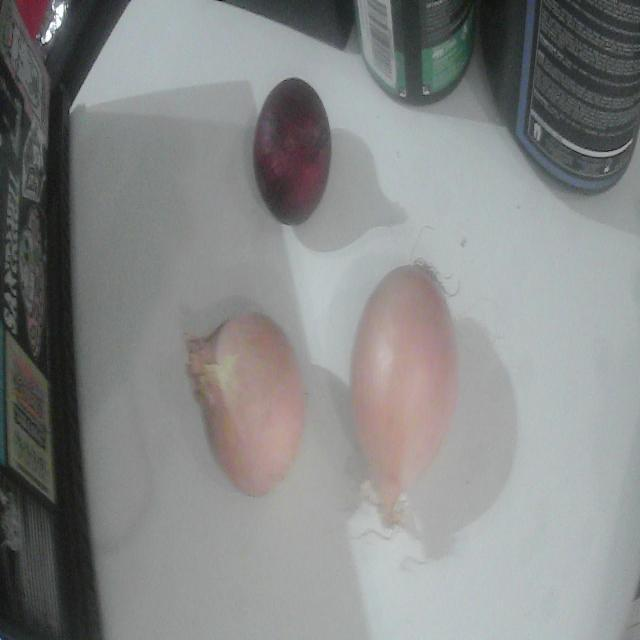Onion: (350, 266, 458, 524), (186, 314, 306, 496), (253, 78, 331, 224)
